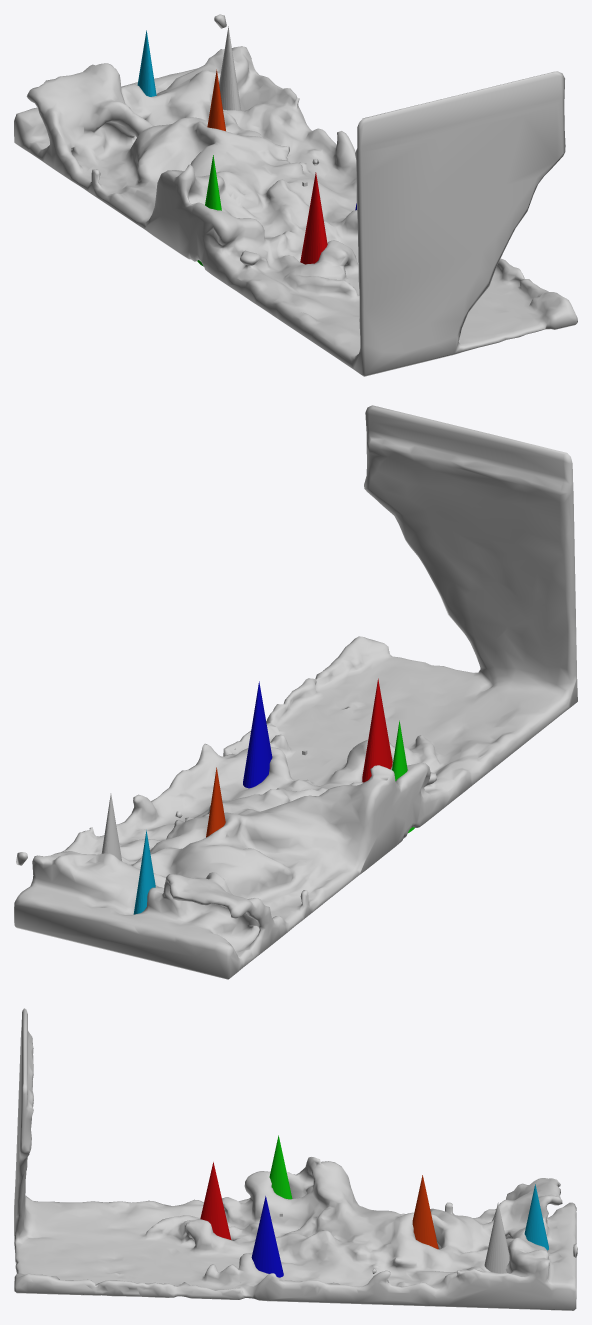
3 renders of one model, top to bottom at view 1: azimuth 30°, elevation 25°; view 2: azimuth 150°, elevation 25°; view 3: azimuth 270°, elevation 25°, orthographic. The views are drawn at different scales.
Parts seen in each view (by area): view 1: Liquid_Domain, 円錐.001, 円錐, 円錐.005, 円錐.004, 円錐.003; view 2: Liquid_Domain, 円錐.002, 円錐.001, 円錐.005; view 3: Liquid_Domain, 円錐.002, 円錐.001, 円錐, 円錐.004, 円錐.005, 円錐.003.
Boxes of the visible parts, x1=… form: Liquid_Domain: x1=14, y1=14, x2=577, y2=376; 円錐.001: x1=300, y1=172, x2=327, y2=264; 円錐: x1=219, y1=26, x2=241, y2=110; 円錐.005: x1=137, y1=30, x2=156, y2=96; 円錐.004: x1=207, y1=69, x2=225, y2=131; 円錐.003: x1=197, y1=155, x2=221, y2=266; Liquid_Domain: x1=14, y1=405, x2=577, y2=979; 円錐.002: x1=243, y1=681, x2=272, y2=788; 円錐.001: x1=362, y1=678, x2=392, y2=782; 円錐.005: x1=133, y1=830, x2=155, y2=914; Liquid_Domain: x1=14, y1=1008, x2=577, y2=1310; 円錐.002: x1=251, y1=1196, x2=283, y2=1277; 円錐.001: x1=200, y1=1162, x2=231, y2=1239; 円錐: x1=484, y1=1202, x2=509, y2=1273; 円錐.004: x1=412, y1=1175, x2=438, y2=1249; 円錐.005: x1=524, y1=1184, x2=548, y2=1250; 円錐.003: x1=269, y1=1135, x2=292, y2=1199.
Size of the model in its own units: 129 by 158 by 362.
